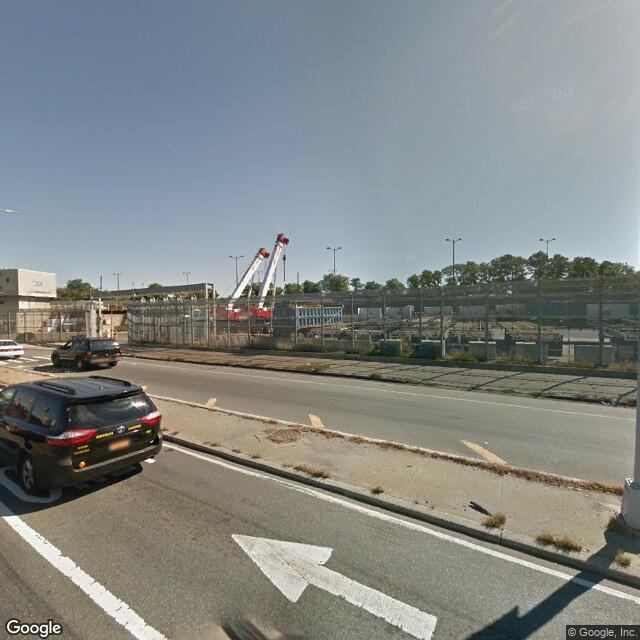litter: (469, 498, 493, 523), (482, 438, 490, 445)
